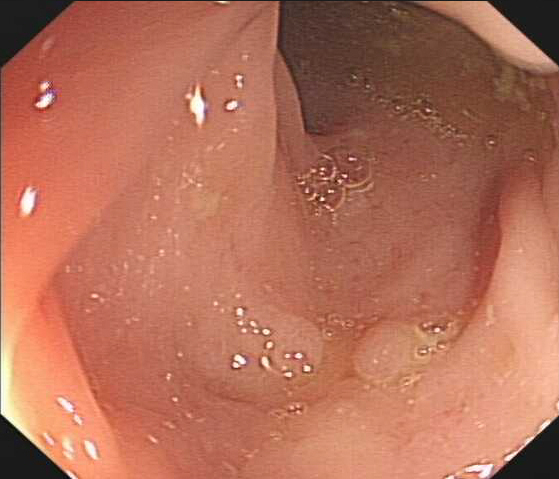others: (191, 302, 324, 390), (349, 314, 429, 389)
